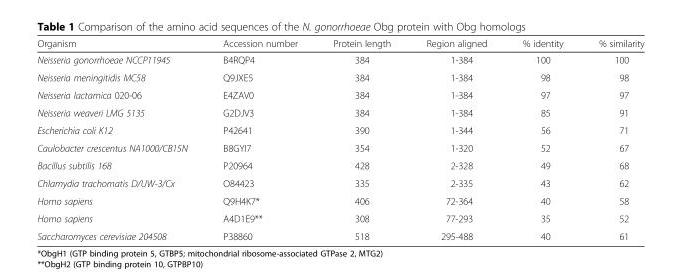table: (36, 37, 643, 241)
table column: (36, 37, 204, 241), (204, 37, 314, 241), (407, 37, 504, 241), (314, 37, 407, 241), (504, 37, 580, 241), (580, 37, 643, 241)
table column header: (36, 37, 643, 51)
table row: (36, 85, 643, 103), (36, 103, 643, 121), (36, 138, 643, 156), (36, 156, 643, 174), (36, 191, 643, 209), (36, 209, 643, 227), (36, 51, 643, 68), (36, 68, 643, 85), (36, 121, 643, 138), (36, 174, 643, 191), (36, 37, 643, 51), (36, 227, 643, 241)
